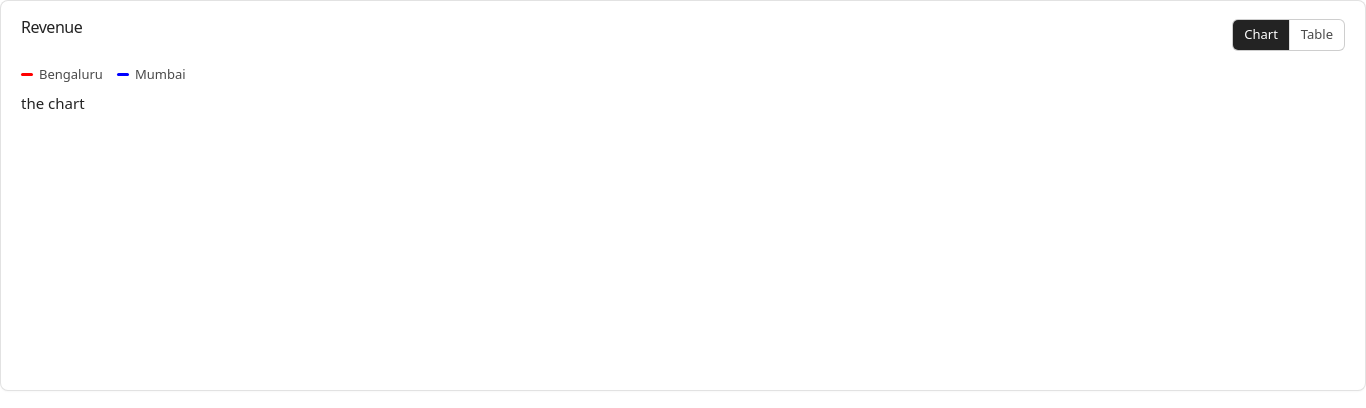
ChartCard › offers an accessible table view of the same data
Expected: the text "the chart" is shown, [21,93,84,113]
Expected: the list named "Legend" shows "Bengaluru", [39,64,103,82]
Click the button "Table": (1316, 35) [1289,20,1344,50]
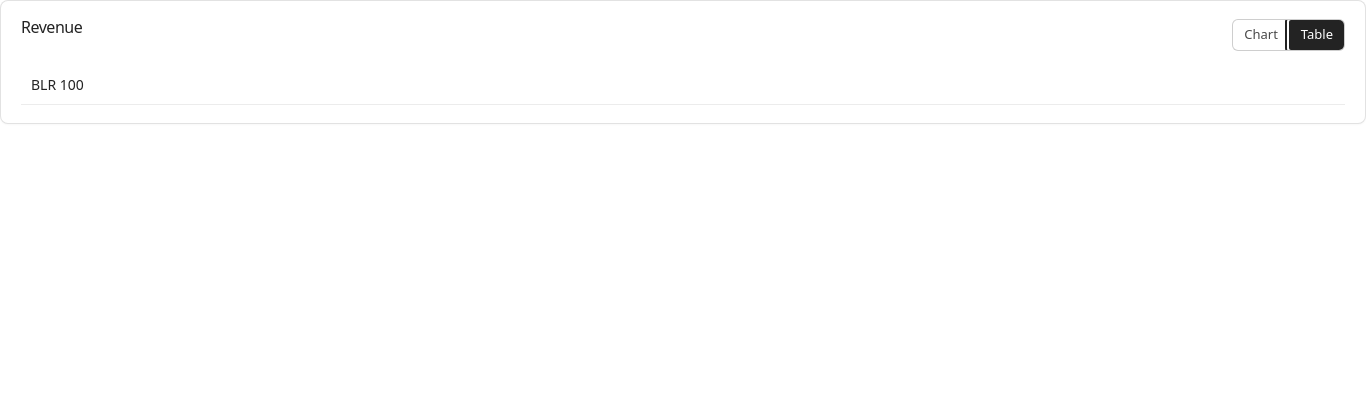
Now the text "BLR 100" is shown, box [21,64,1345,104]
Now the text "the chart" is gone
